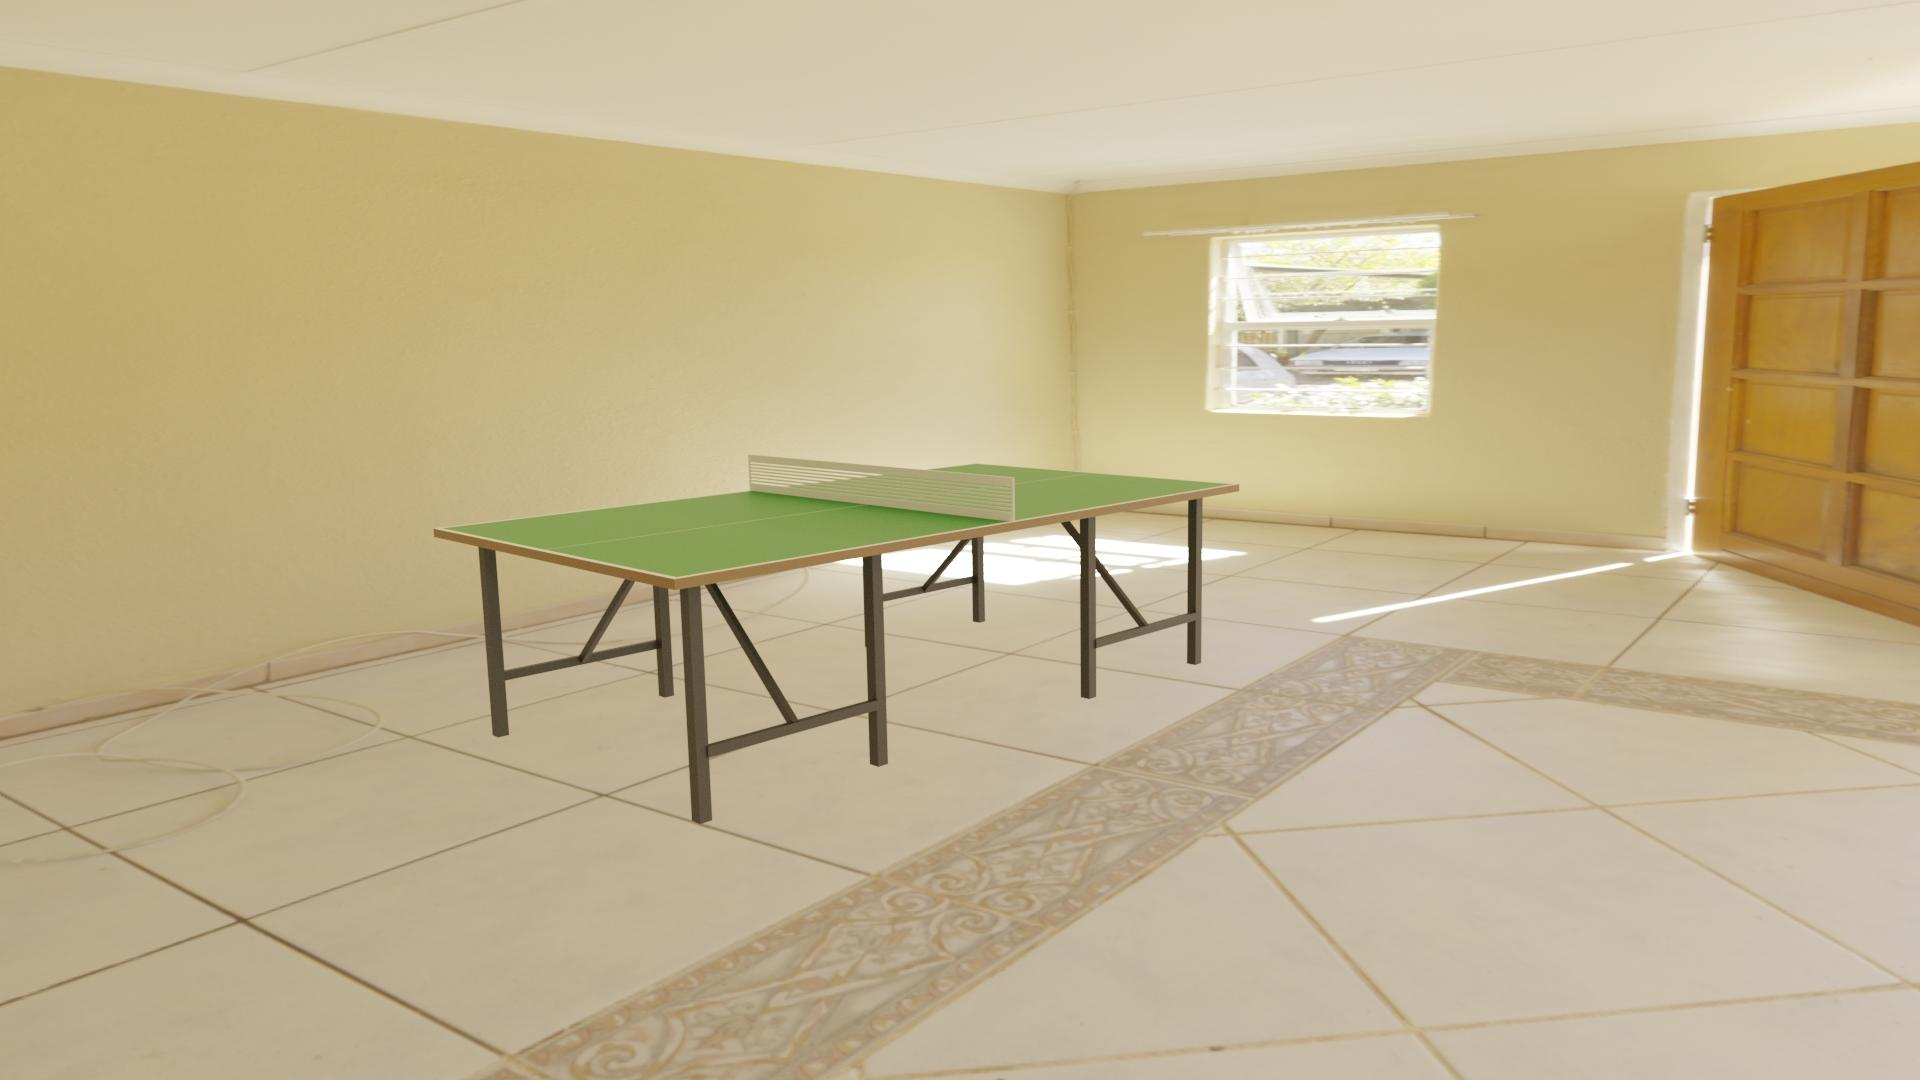table: (442, 464, 1233, 578)
